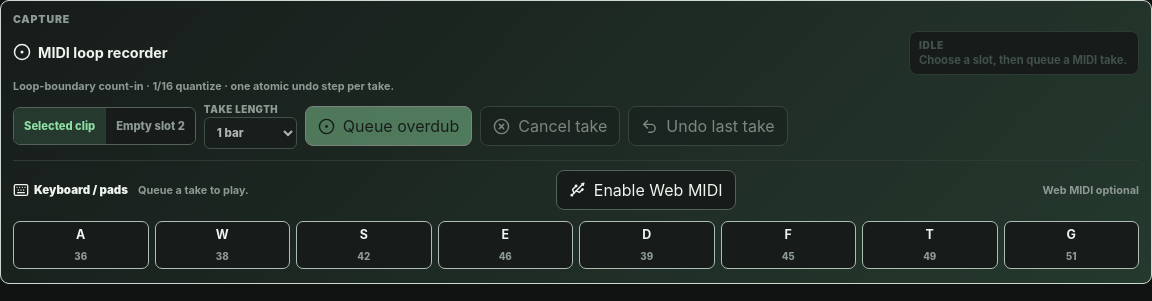
Scenario: MidiRecorder › commits one quantized empty-slot take as one revision and undoes only that take
The width and height of the screenshot is (1152, 301).
Step 1. Click the button "Empty slot 2" → (151, 126), box [106,108,195,144]
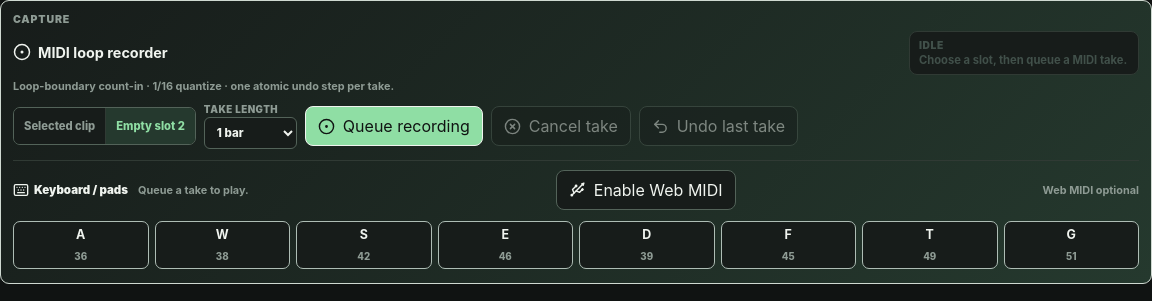
Step 2. Click the button "Queue recording" → (394, 126), box [305,106,483,146]
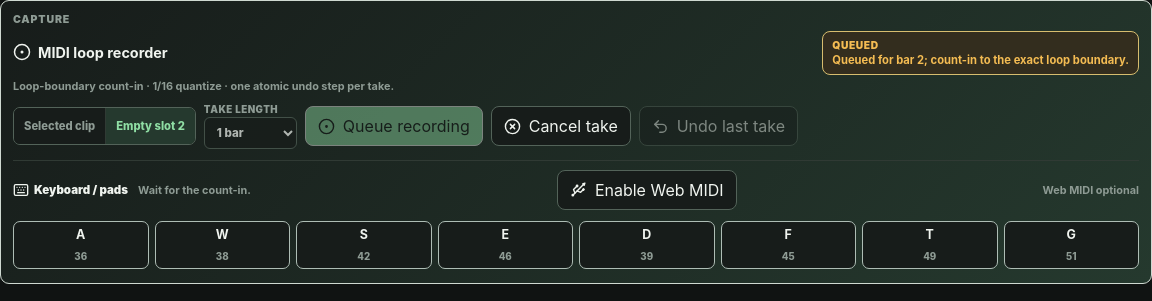
Expected: the text "Queued for bar 2; count-in to the exact loop boundary." is shown, [832,53,1129,67]
Step 3. Press a
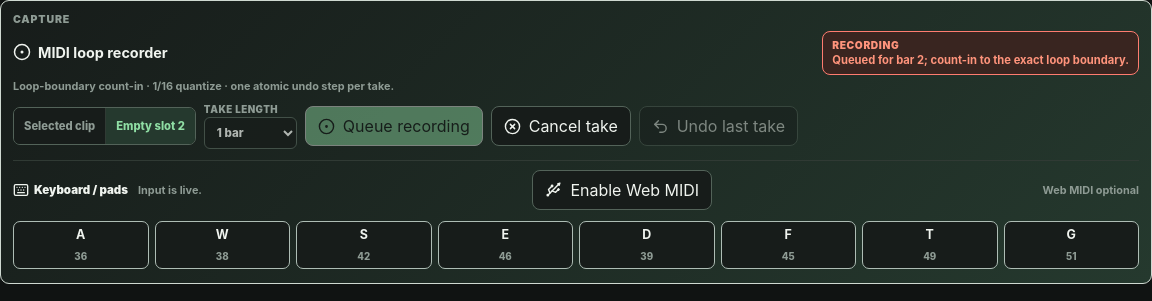
Expected: the text "Input is live." is shown, [138,183,202,197]
Step 4. Press a
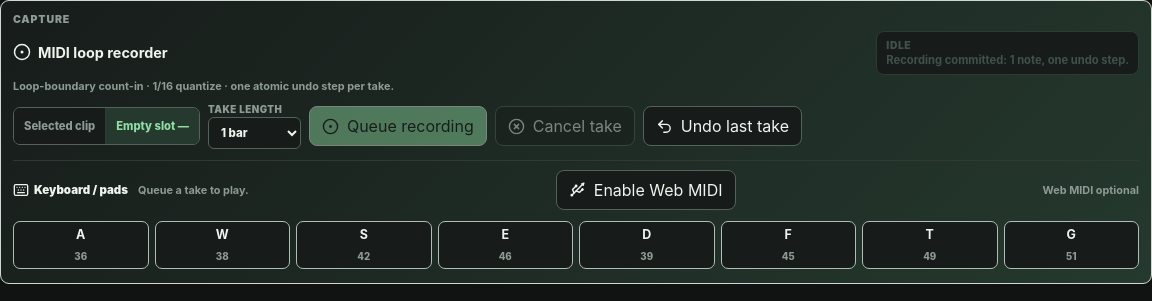
Expected: the text "Recording committed: 1 note, one undo step." is shown, [886,53,1129,67]
Step 5. Click the button "Undo last take" → (722, 126), box [643,106,802,146]
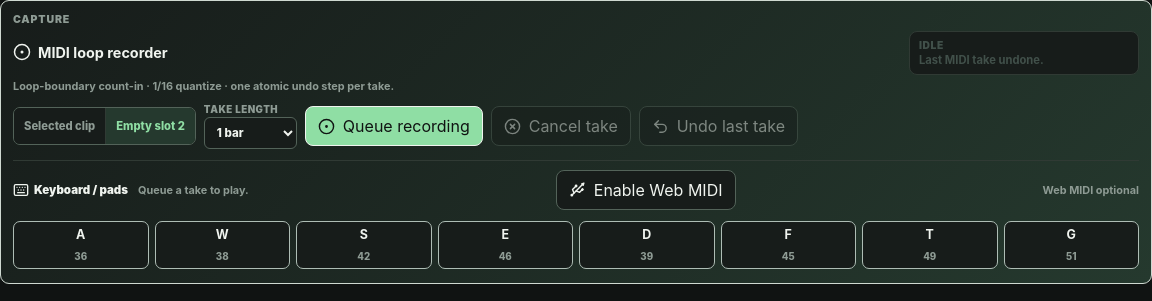
Expected: the text "Last MIDI take undone." is shown, [919,53,1044,67]
Expected: the button "Undo last take" is disabled, [639,106,798,146]
